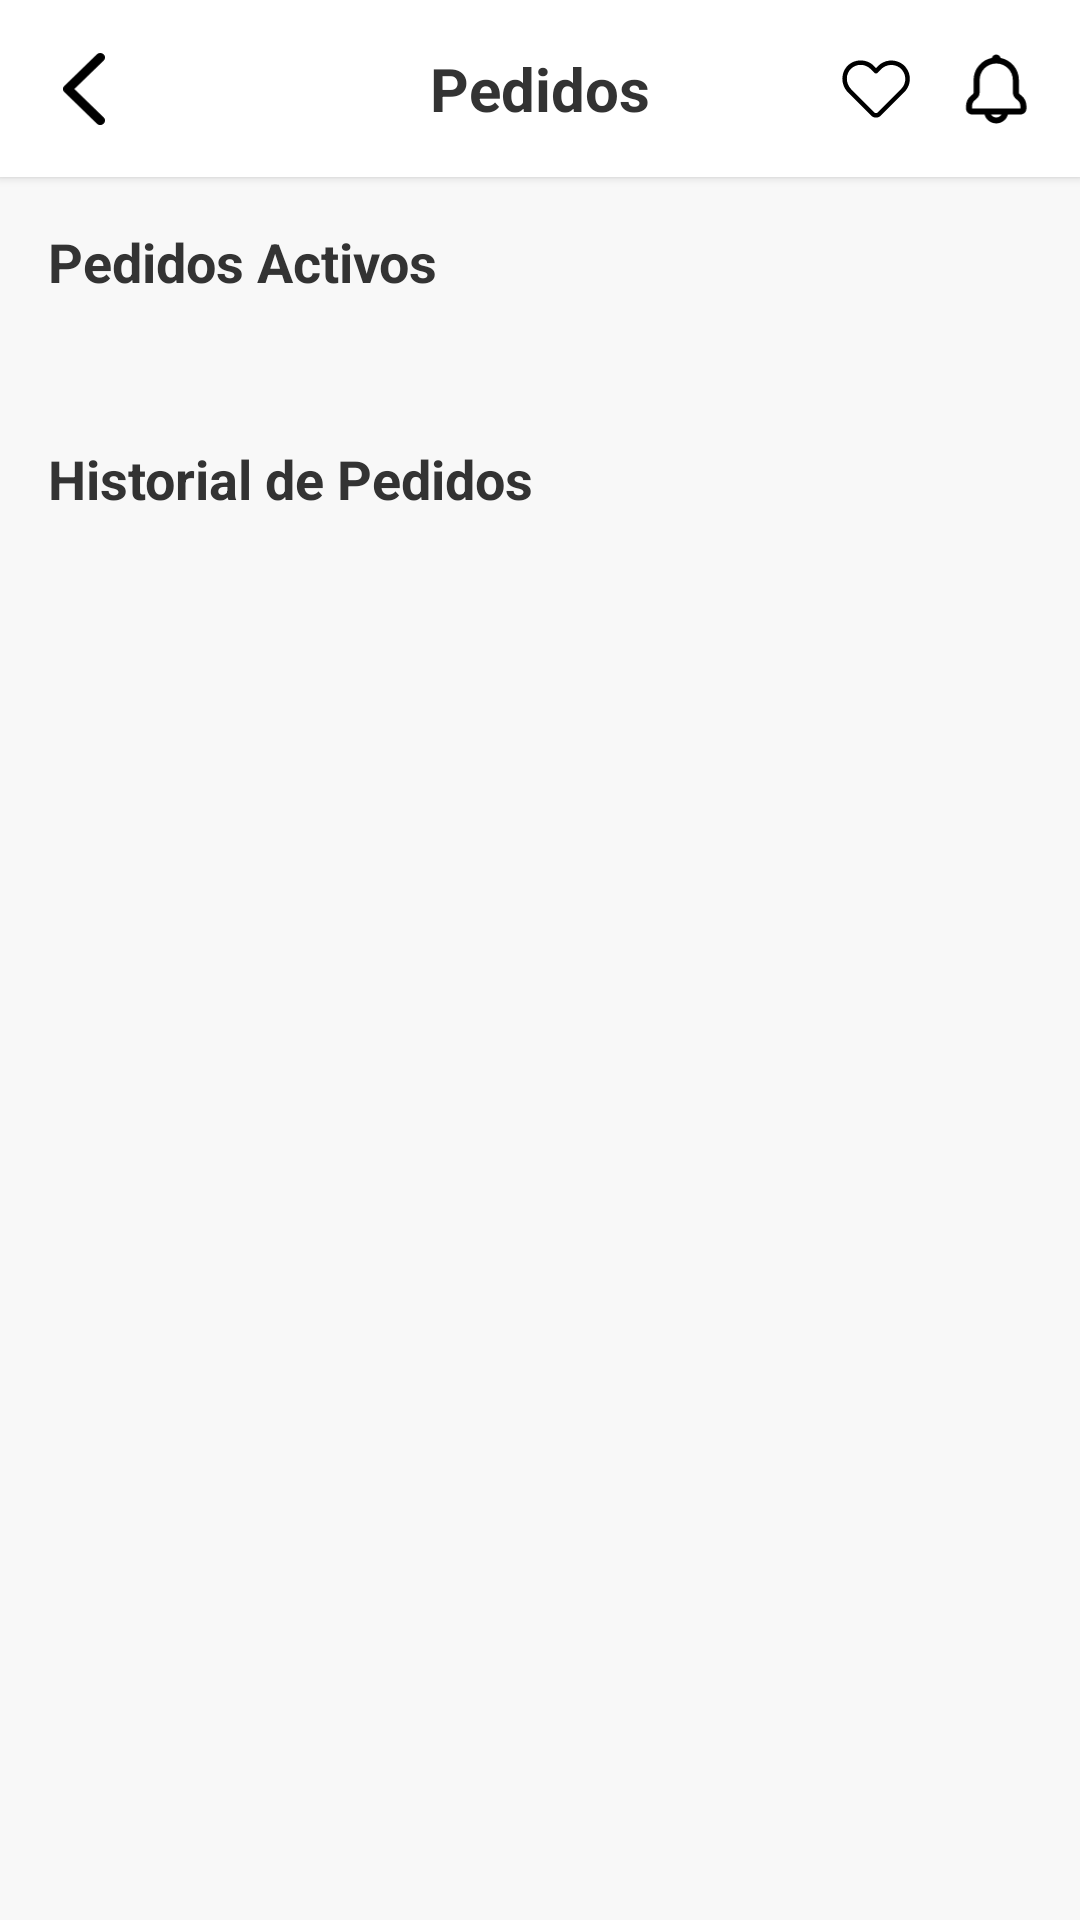

Icons on this 1080 × 1920 Android screen, each with the point to tap as (x=x, y=y):
favorite: (x=876, y=89)
left arrow: (x=84, y=89)
notify: (x=996, y=89)
